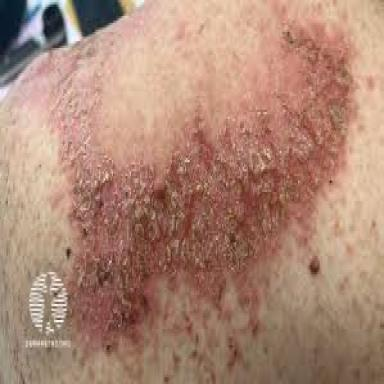Darier_s-Disease: (14, 0, 365, 370)
